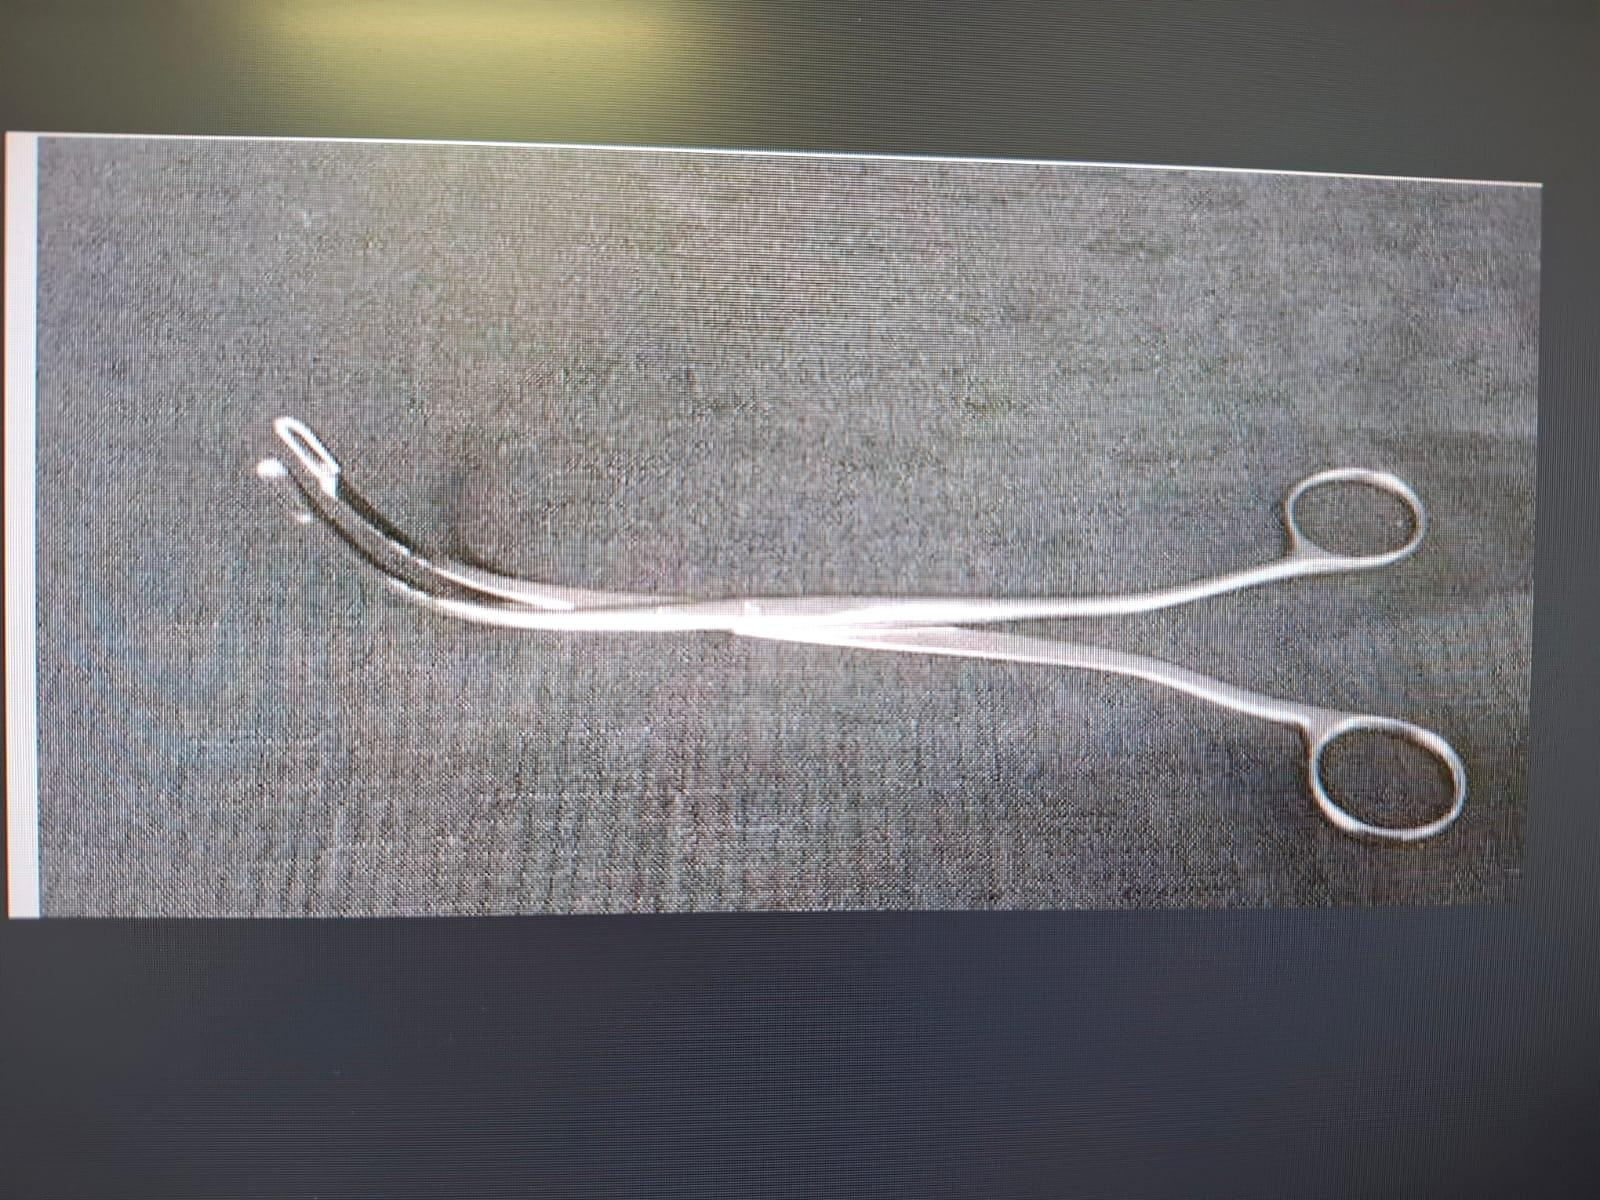Randall Forceps: (246, 384, 1466, 860)
